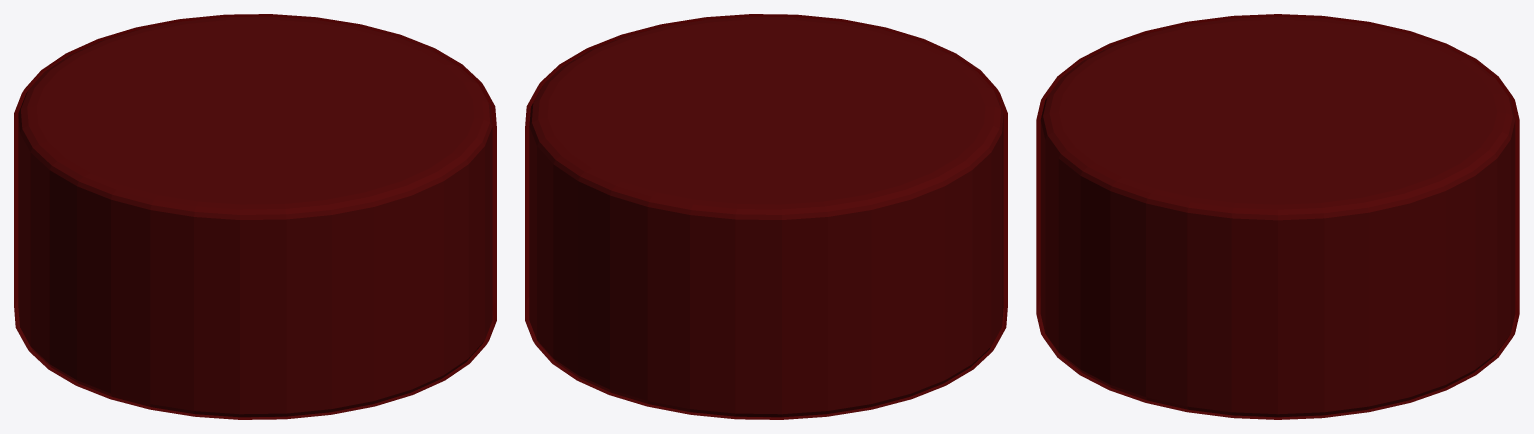
File: circulo chocolate amargo.glb
3 renders of one model, left to right at view 1: azimuth 30°, elevation 25°; view 2: azimuth 150°, elevation 25°; view 3: azimuth 270°, elevation 25°, orthographic.
Parts seen in each view (by area): view 1: Cylinder.015; view 2: Cylinder.015; view 3: Cylinder.015.
Part boxes in pixels (x1,y1,x2,y2): Cylinder.015: (14,14,496,419); Cylinder.015: (525,14,1007,419); Cylinder.015: (1036,14,1519,419).
Size of the model in its own units: 20.47 by 9.98 by 20.47.
